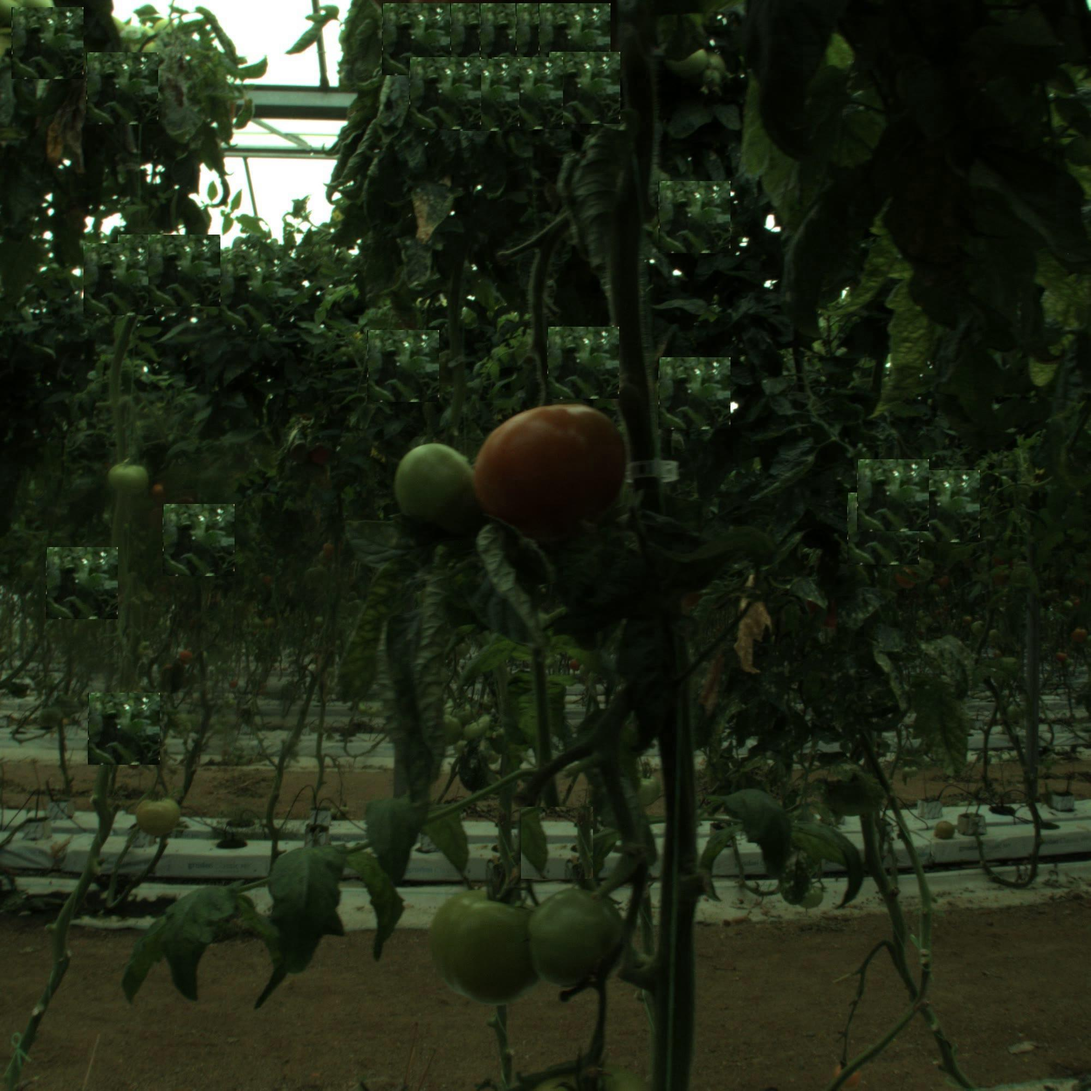fully-ripe: (481, 400, 630, 550)
unripe: (426, 884, 538, 997), (521, 888, 624, 990), (397, 444, 480, 527), (135, 793, 180, 837), (105, 457, 149, 501)
